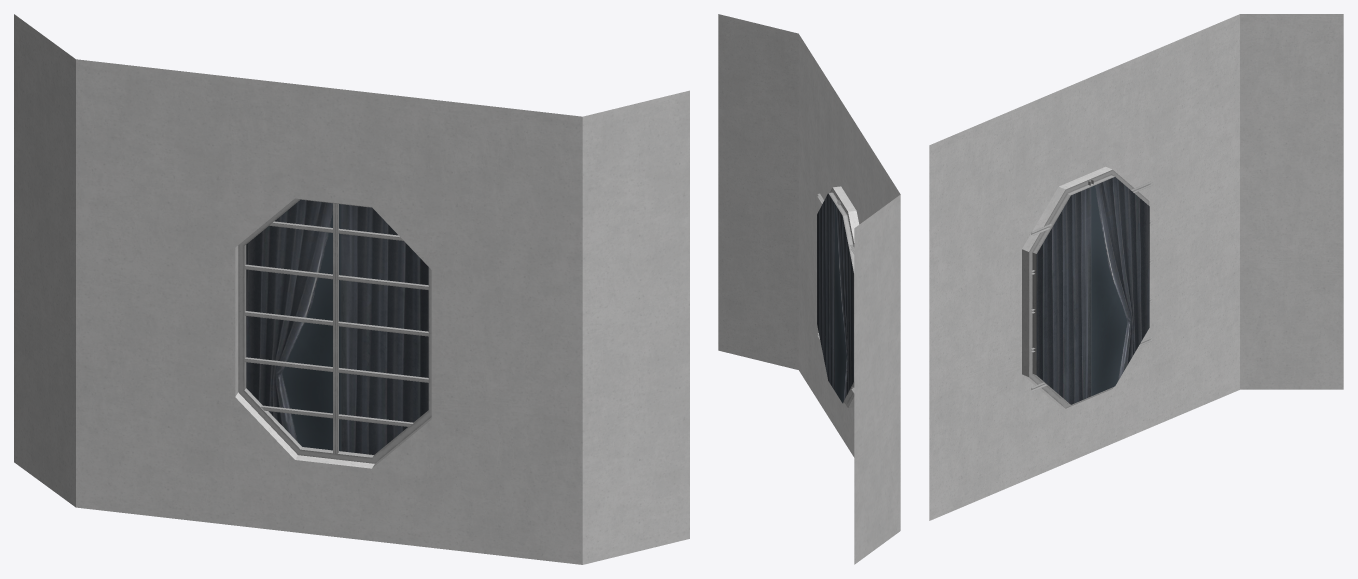
Rendered from MB_Wall_Window_A_17.fbx.
3 views of the same model, side by side, from view 1: azimuth 30°, elevation 25°; view 2: azimuth 150°, elevation 25°; view 3: azimuth 270°, elevation 25° (orthographic). The views are drawn at different scales.
Parts seen in each view (by area): view 1: MB_Wall_Window_A_17; view 2: MB_Wall_Window_A_17; view 3: MB_Wall_Window_A_17.
Boxes of the visible parts, x1,y1,x2,y2 form: MB_Wall_Window_A_17: (14, 14, 689, 564); MB_Wall_Window_A_17: (718, 14, 900, 564); MB_Wall_Window_A_17: (929, 14, 1343, 520).
Bounding box in the file's own units: 400 × 400 × 400.
